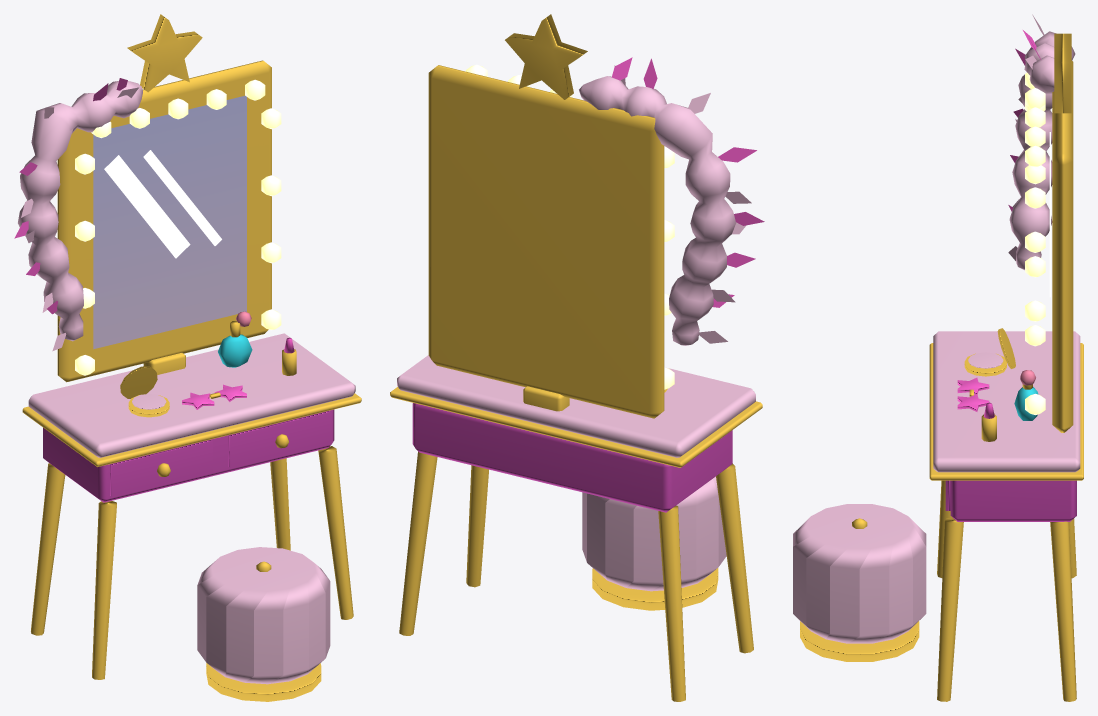
Rendered from dressing_mirror.glb.
3 renders of one model, left to right at view 1: azimuth 30°, elevation 25°; view 2: azimuth 150°, elevation 25°; view 3: azimuth 270°, elevation 25°, orthographic. The views are drawn at different scales.
Parts seen in each view (by area): view 1: Table, Glass, Mirror, Pouf, Boa, Stuff, BoaWisps; view 2: Mirror, Table, Pouf, Boa, BoaWisps; view 3: Table, Pouf, Mirror, Boa, Stuff, BoaWisps.
Boxes of the visible parts, x1,y1,x2,y2 form: Table: (22, 333, 361, 679); Glass: (93, 95, 246, 349); Mirror: (57, 14, 281, 382); Pouf: (197, 547, 330, 701); Boa: (18, 81, 142, 341); Stuff: (120, 311, 296, 417); BoaWisps: (14, 78, 138, 351); Mirror: (428, 14, 674, 418); Table: (390, 355, 762, 701); Pouf: (582, 476, 726, 610); Boa: (579, 76, 735, 345); BoaWisps: (612, 57, 764, 343); Table: (929, 331, 1083, 701); Pouf: (793, 504, 926, 661); Mirror: (1025, 33, 1073, 432); Boa: (1009, 31, 1075, 270); Stuff: (957, 328, 1038, 441); BoaWisps: (1008, 14, 1044, 260).
Bounding box in the file's own units: 1.04 × 1.9 × 0.8301.
